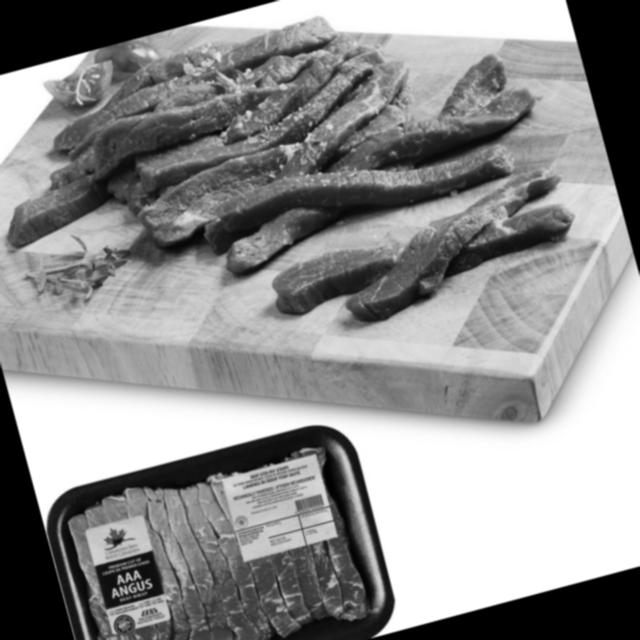thit mieng: (40, 0, 595, 377)
